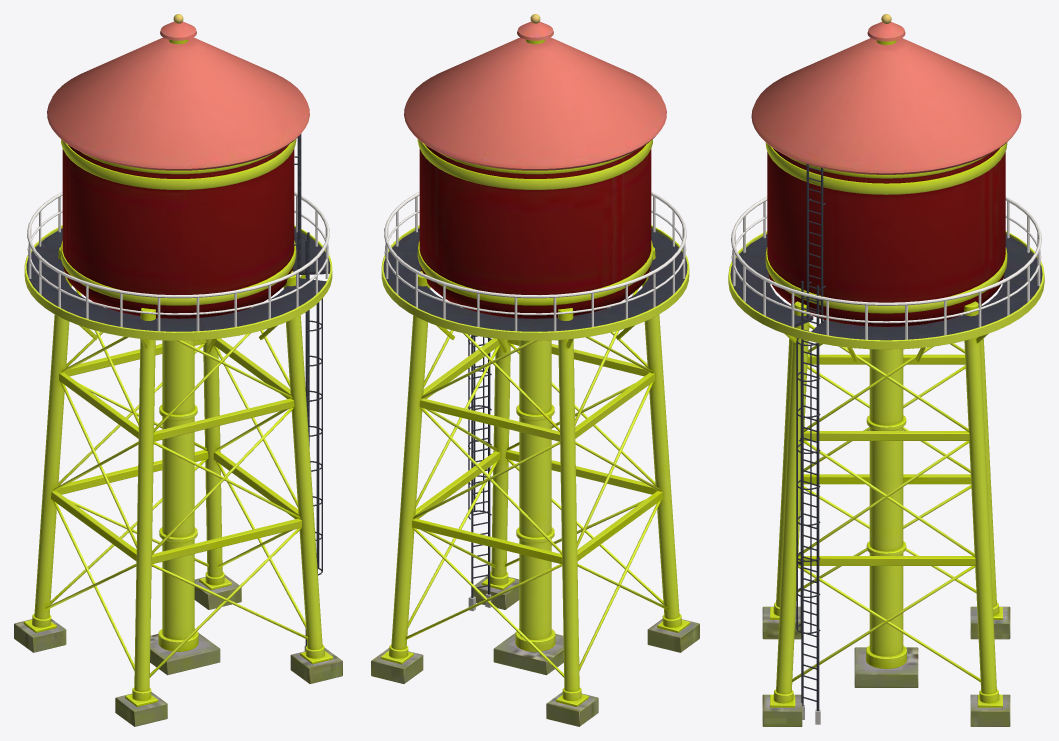
The model's file is water-tower.glb.
3 renders of one model, left to right at view 1: azimuth 30°, elevation 25°; view 2: azimuth 150°, elevation 25°; view 3: azimuth 270°, elevation 25°, orthographic. The views are drawn at different scales.
Parts seen in each view (by area): view 1: water-tower_body, water-tower_railing; view 2: water-tower_body, water-tower_railing; view 3: water-tower_body, water-tower_railing.
Boxes of the visible parts, <box> form: water-tower_body: <box>14,14,342,726</box>; water-tower_railing: <box>27,134,329,651</box>; water-tower_body: <box>371,14,699,726</box>; water-tower_railing: <box>384,192,686,611</box>; water-tower_body: <box>728,14,1044,726</box>; water-tower_railing: <box>731,164,1041,724</box>.
Size of the model in its own units: 7.96 by 18.35 by 7.96.
Materials: 2 (2 with a texture image).
